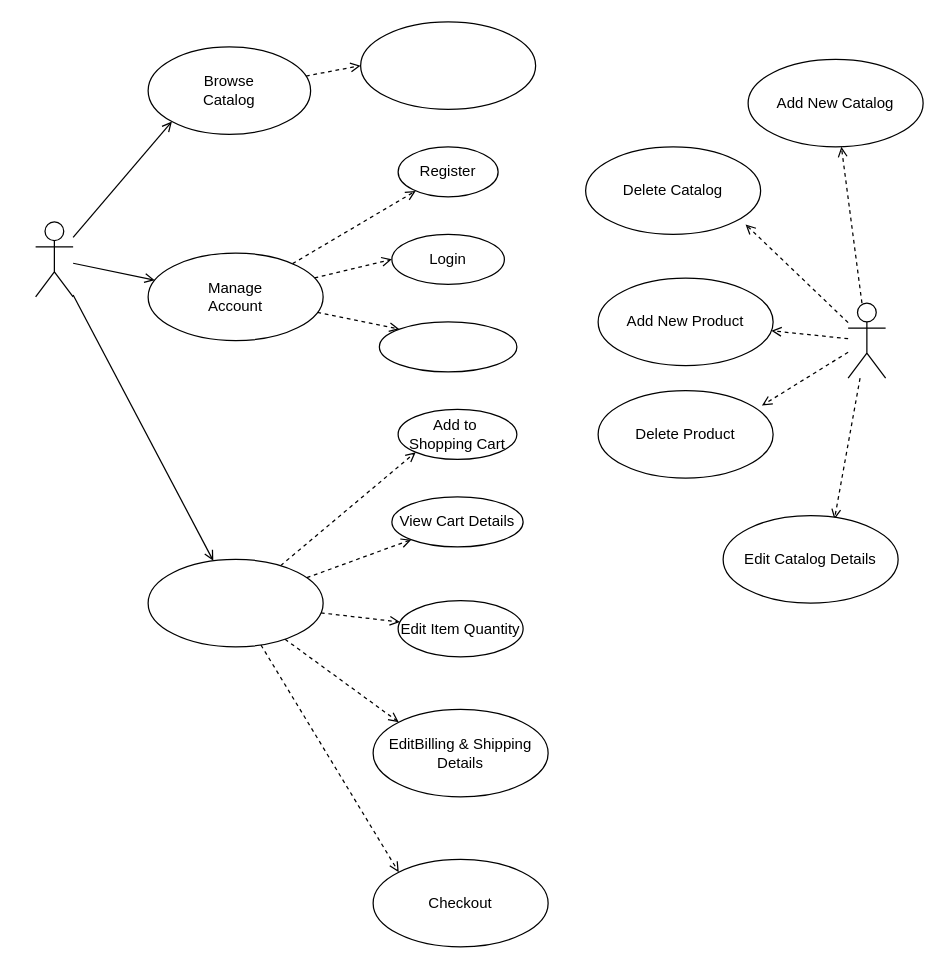
Some shapes in this 945 by 969 pixel diagram are drawn without their labels. The centre of each missing label's shape, as x and y in pixels:
"Customer" goes at point 53,259.
"Manage Profile" goes at point 447,346.
"Perform Product Search" goes at point 447,65.
"Place Order" goes at point 235,602.
"Vendor" goes at point 866,340.
